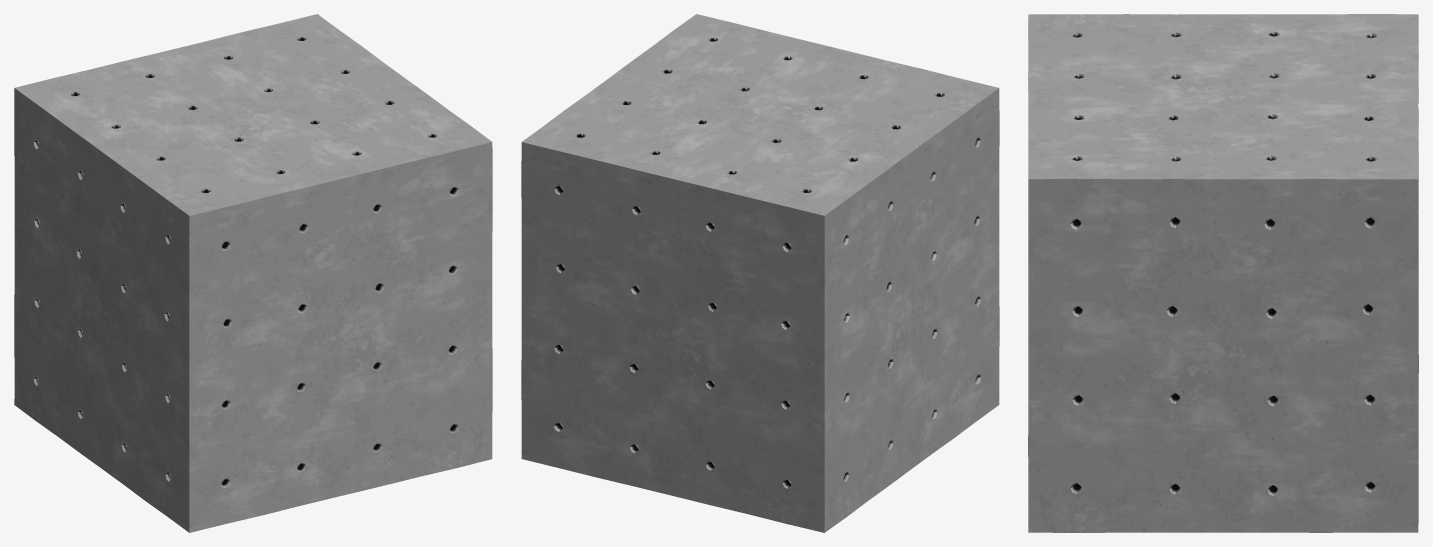
Rendered from concrete_cube_low.gltf.
3 renders of one model, left to right at view 1: azimuth 30°, elevation 25°; view 2: azimuth 150°, elevation 25°; view 3: azimuth 270°, elevation 25°, orthographic. The views are drawn at different scales.
Parts seen in each view (by area): view 1: Cube; view 2: Cube; view 3: Cube.
Boxes of the visible parts, <box> form: Cube: <box>14,14,492,532</box>; Cube: <box>521,14,999,532</box>; Cube: <box>1028,14,1418,532</box>.
Size of the model in its own units: 2 by 2 by 2.
Materials: 1 (1 with a texture image).
